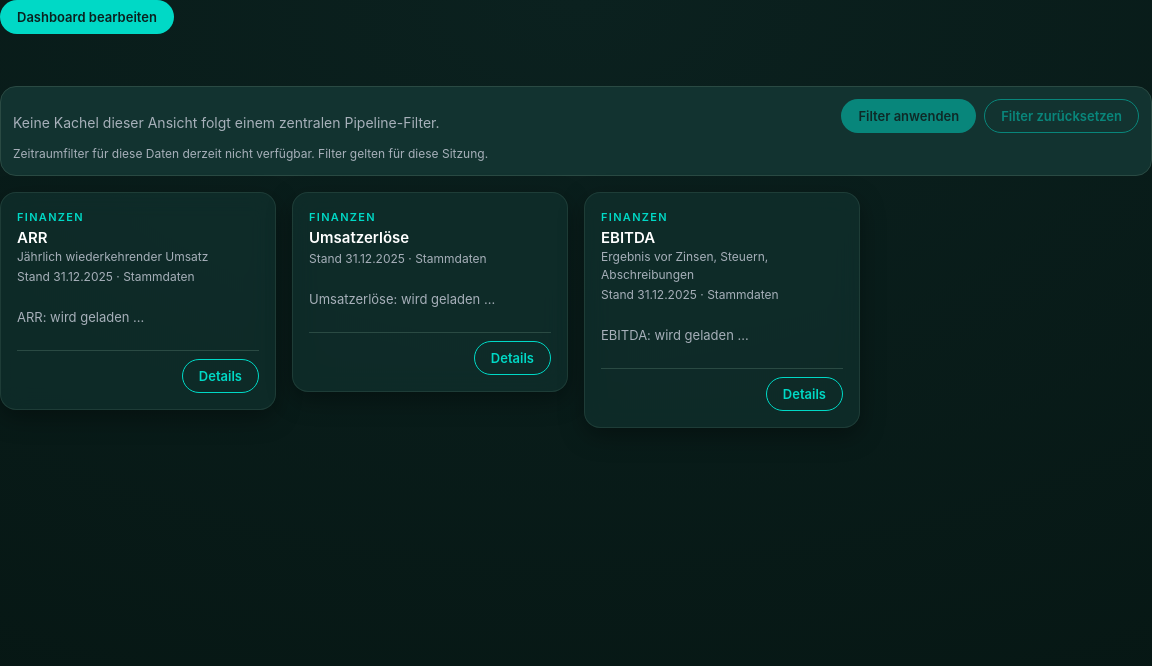
Scenario: DashboardWorkspace – Bearbeiten › speichert die Arbeitskopie erst auf Wunsch und kehrt danach in die Ansicht zurück
What coordinates should you click on to do the following:
click the button "Dashboard bearbeiten"
I would click on:
 (87, 17)
Its box is [0, 0, 174, 34].
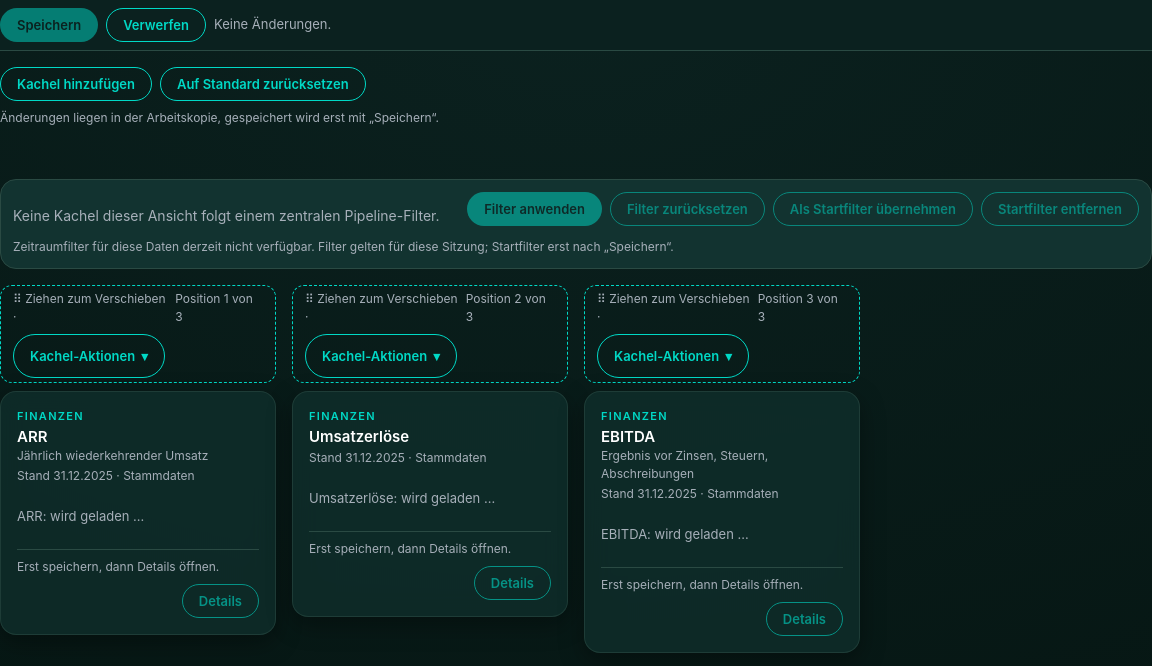
What coordinates should you click on to do the following:
click the button "Kachel-Aktionen ▾" below "Position 1 von 3"
I would click on:
 (89, 356)
Its box is [13, 334, 165, 378].
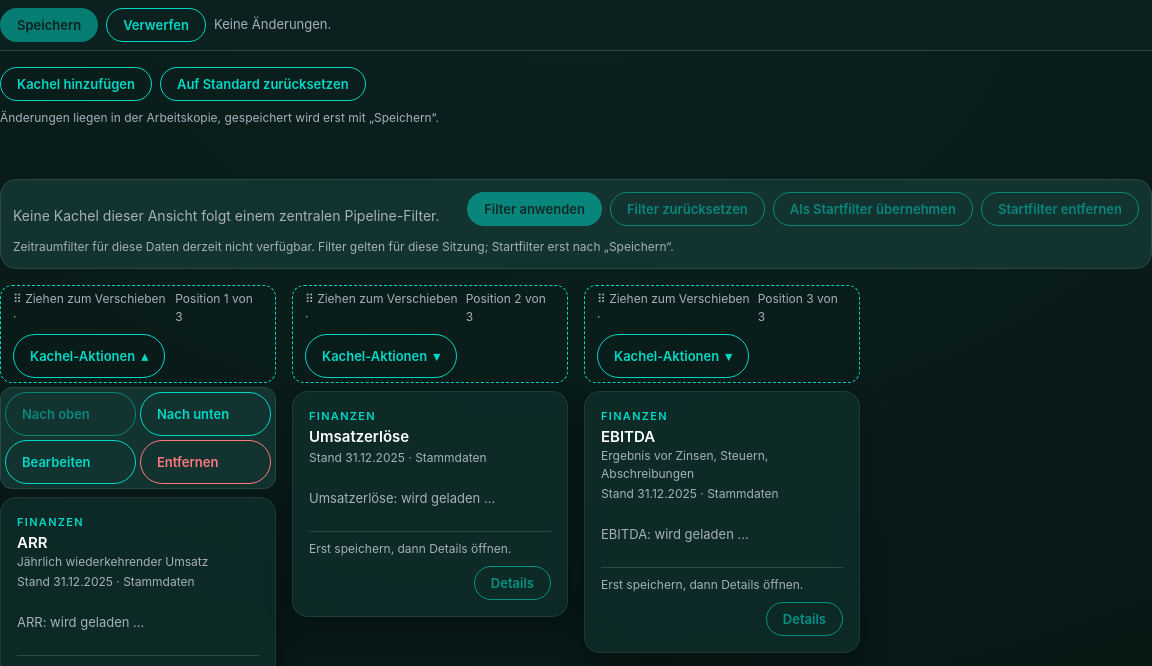
What coordinates should you click on to do the following:
click the button "Kachel-Aktionen ▾" below "Position 2 von 3"
I would click on:
 (381, 356)
Its box is [305, 334, 457, 378].
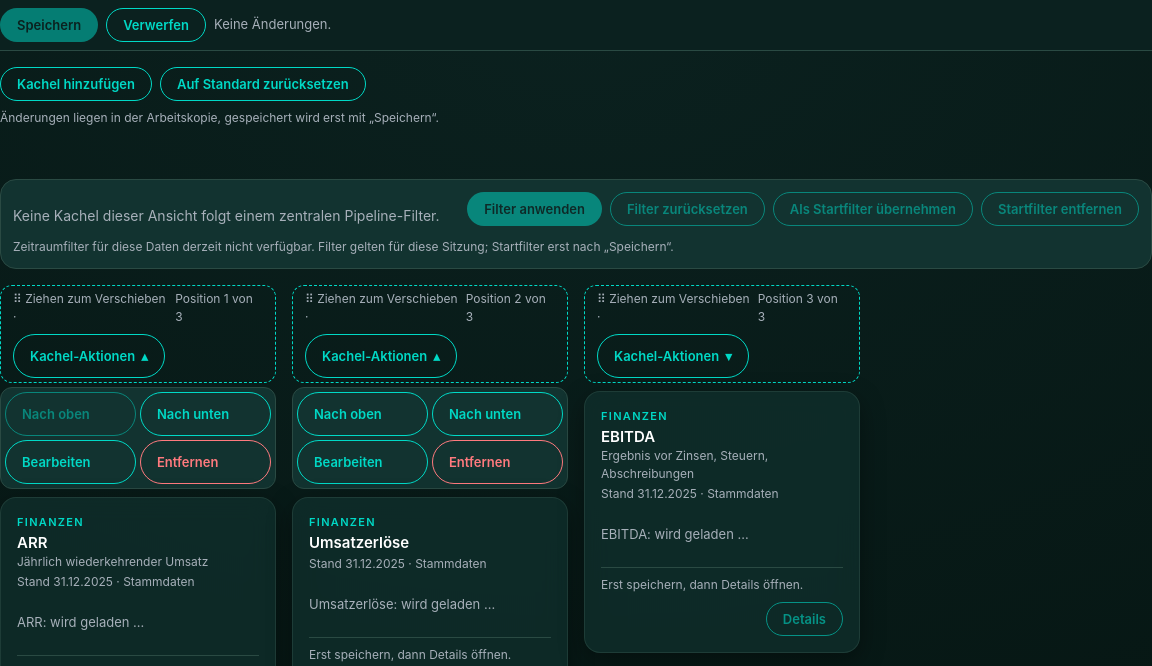
What coordinates should you click on to do the following:
click the button "Kachel-Aktionen ▾"
I would click on:
 (673, 356)
Its box is [597, 334, 749, 378].
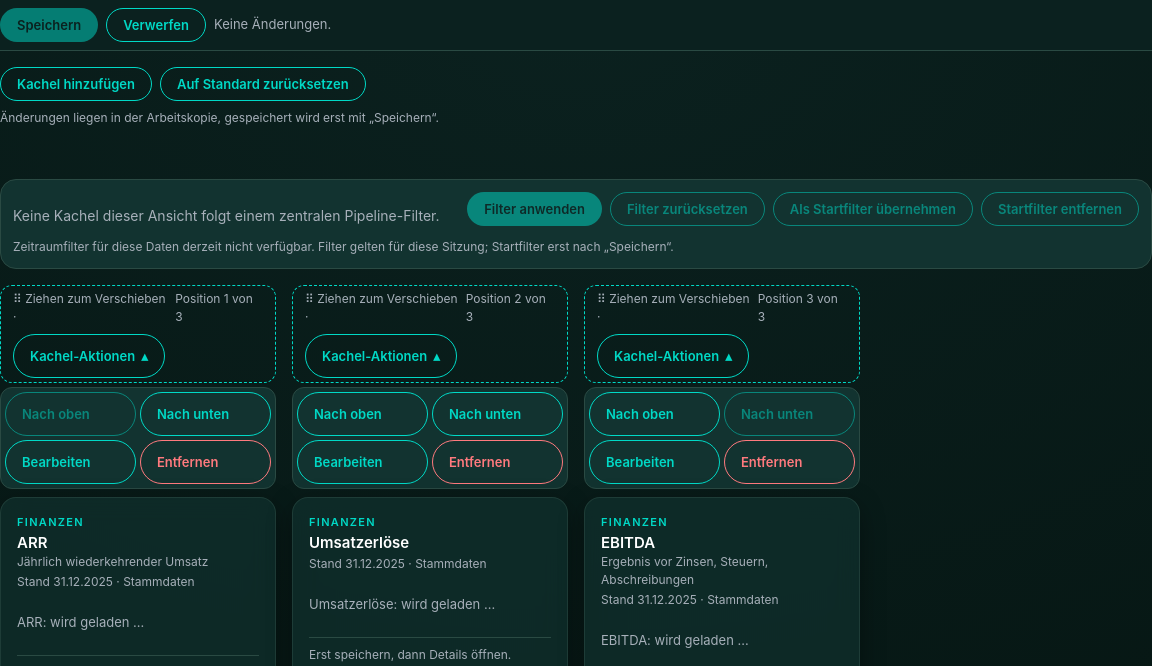
What coordinates should you click on to do the following:
click the button "Nach unten" below "Position 1 von 3"
I would click on:
 (206, 414)
Its box is [140, 392, 271, 436].
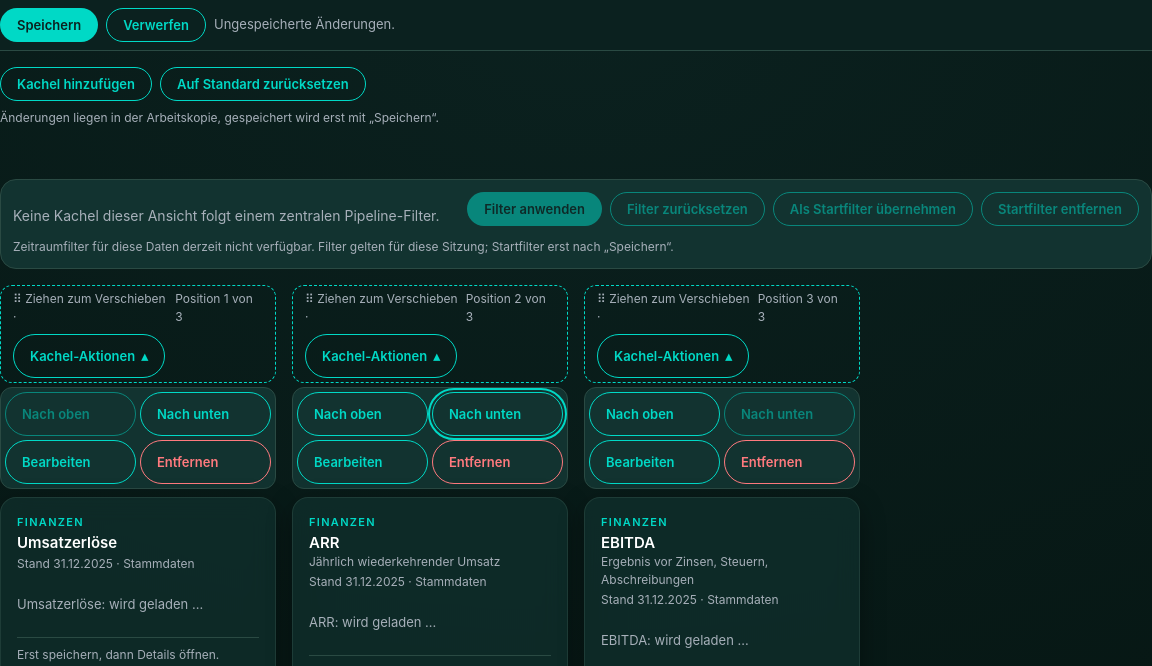
What coordinates should you click on to do the following:
click the button "Speichern"
I would click on:
 (49, 25)
Its box is [0, 8, 98, 42].
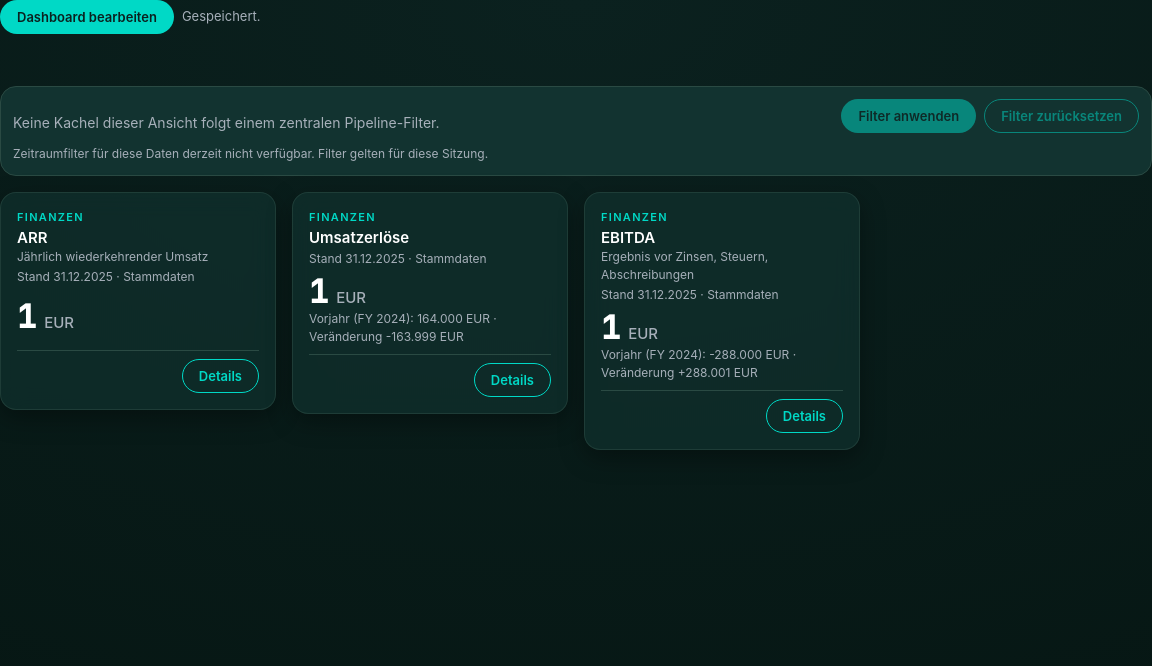
Now the text "Gespeichert." is shown, box [182, 7, 260, 27]
Now the button "Dashboard bearbeiten" is shown, box [0, 0, 174, 34]
